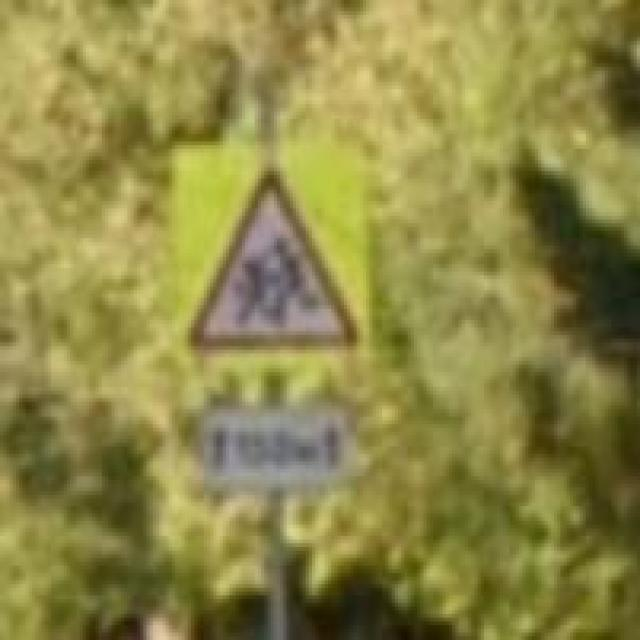Dzieci: (181, 164, 363, 357)
